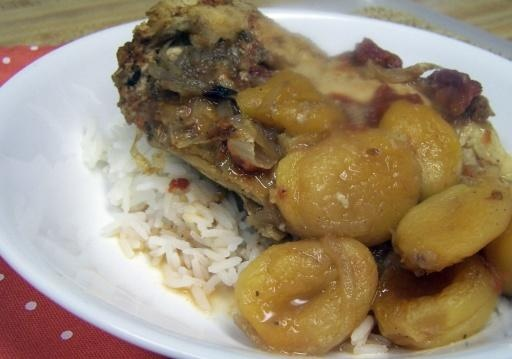background: (64, 0, 409, 200)
